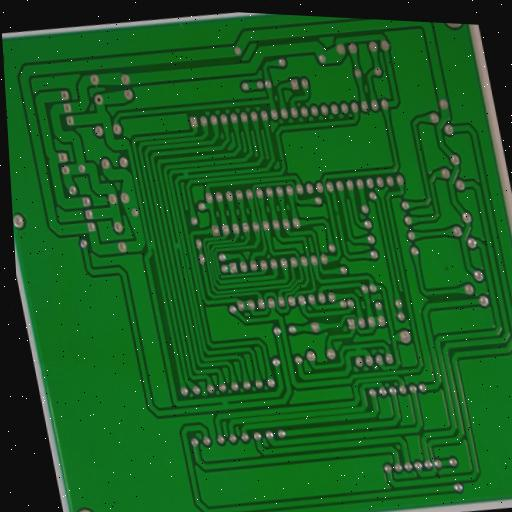short_circuit: (217, 395, 235, 412), (178, 166, 195, 182), (144, 238, 159, 253), (171, 238, 185, 254), (353, 342, 367, 358)
